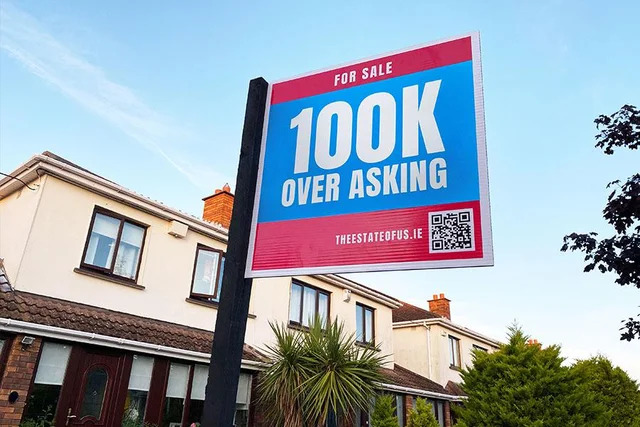property sign: (237, 22, 527, 291)
